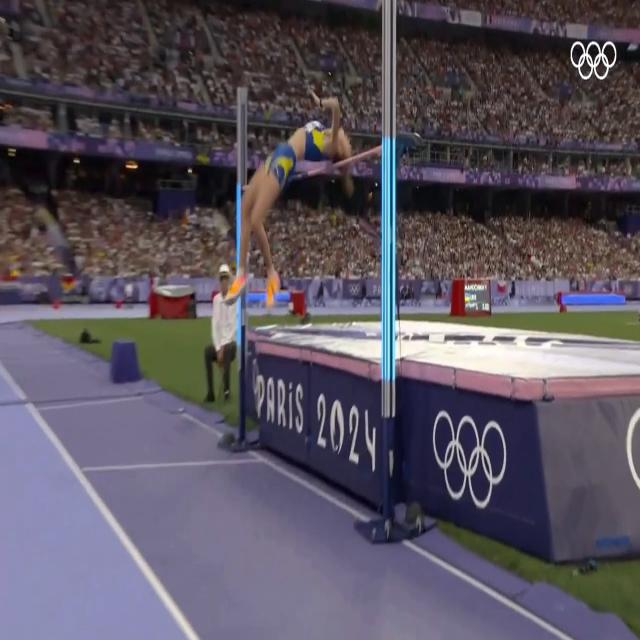jump: (224, 96, 356, 306)
